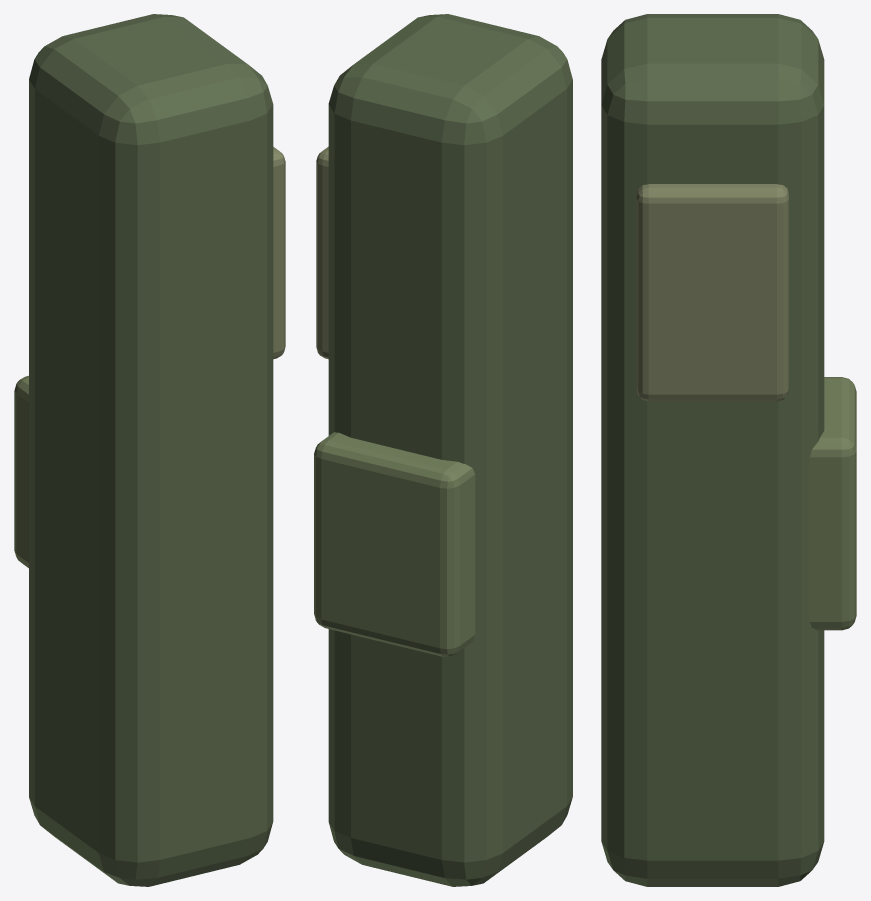
Rendered from soldier_leg.glb.
3 renders of one model, left to right at view 1: azimuth 30°, elevation 25°; view 2: azimuth 150°, elevation 25°; view 3: azimuth 270°, elevation 25°, orthographic. The views are drawn at different scales.
Parts seen in each view (by area): view 1: soldier_leg; view 2: soldier_leg; view 3: soldier_leg.
Part boxes in pixels (x1=…): soldier_leg: x1=14, y1=14, x2=285, y2=886; soldier_leg: x1=314, y1=14, x2=572, y2=886; soldier_leg: x1=601, y1=14, x2=856, y2=886.
Size of the model in its own units: 0.1875 by 0.77 by 0.2175.
